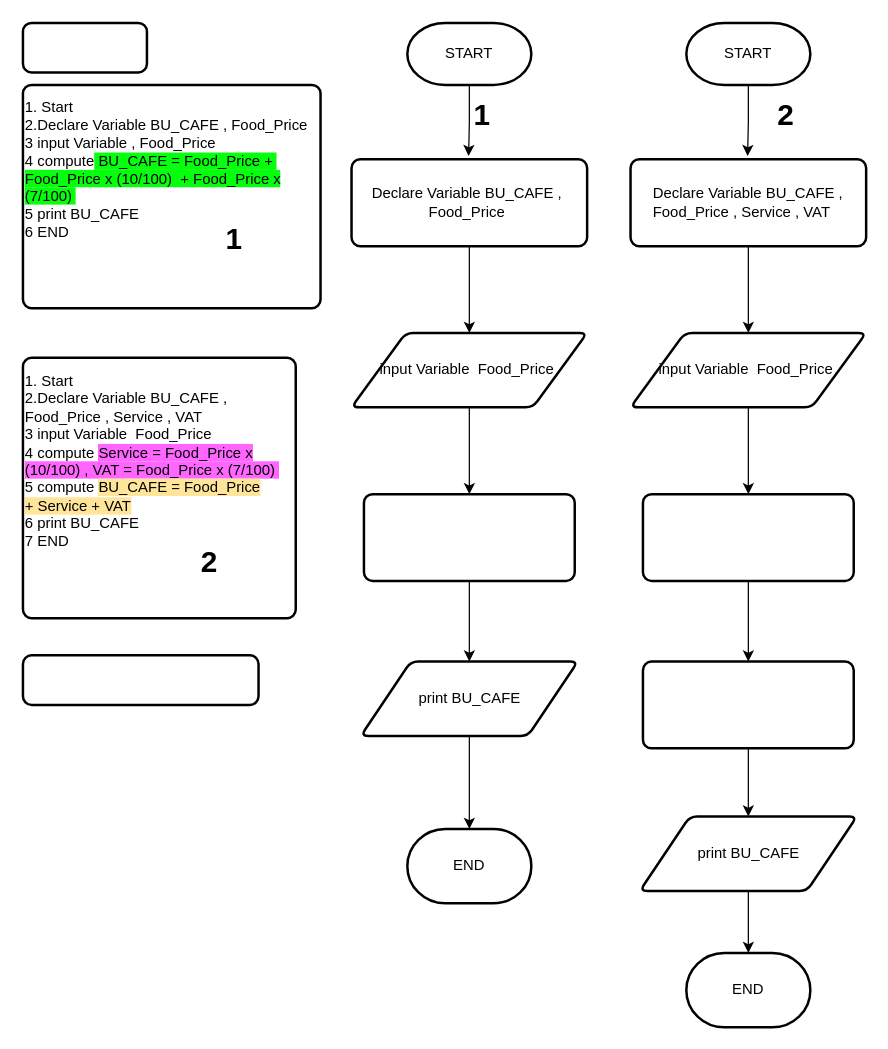
Image size: 888x1049. Some labels were removed from this diagram. The shapes that lost their labels are listed below. From the top down, each one's box as (x1, y1, x2, y2) in pixels, then its label:
(21, 21, 148, 73): HOMEWORK 2
(362, 492, 575, 582): compute BU_CAFE = Food_Price + Food_Price x (10/100) + Food_Price x (7/100)
(641, 492, 854, 582): compute Service = Food_Price x (10/100) , VAT = Food_Price x (7/100)
(21, 653, 259, 706): Name Student ID : 1670700044 นายณัฐชนนท์ ศิรมลพิวัฒน์ เลขที่ 1
(641, 660, 854, 749): compute BU_CAFE = Food_Price + Service + VAT
